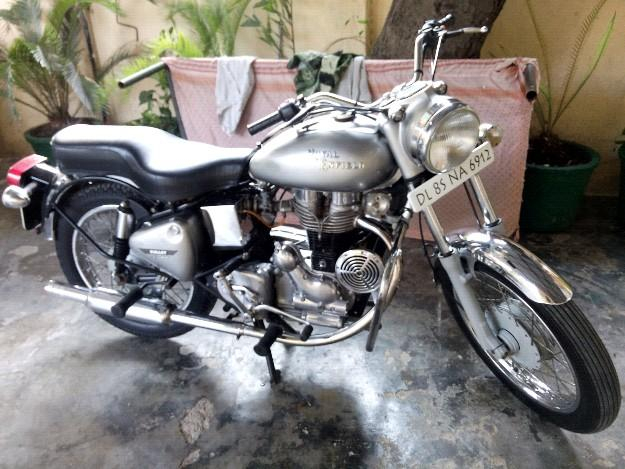plate: (385, 144, 528, 218)
